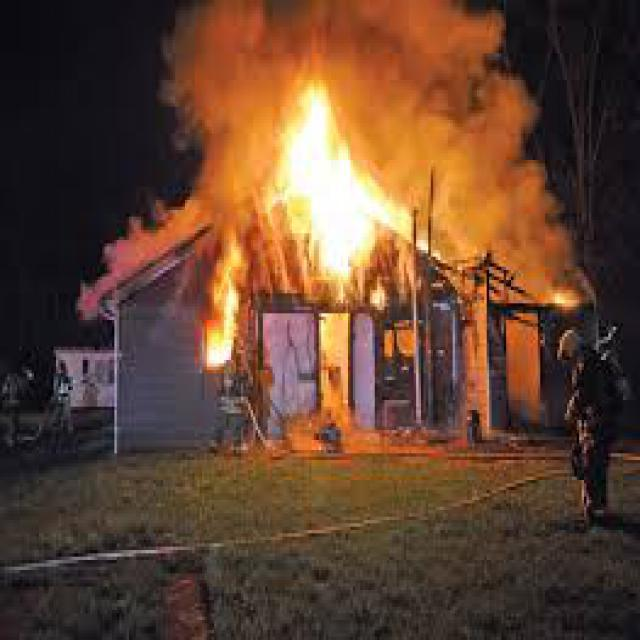Fire: (263, 101, 429, 274)
Smoke: (168, 0, 519, 106)
